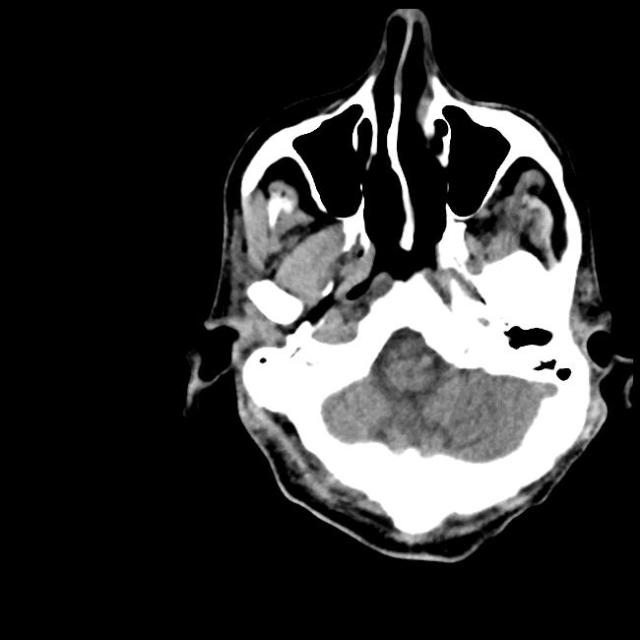lesion: (184, 8, 625, 565)
